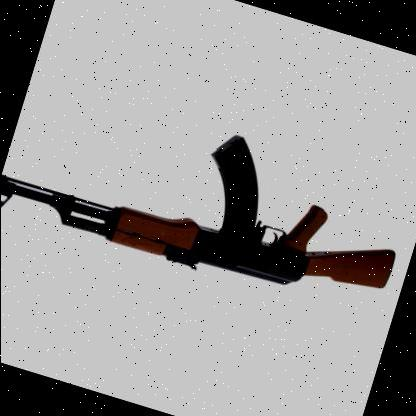rifle: (0, 56, 416, 349)
